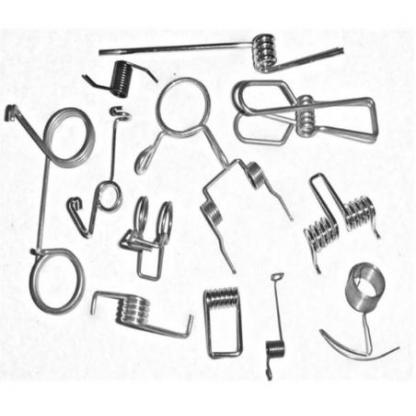FOD: (96, 31, 348, 74), (318, 260, 402, 362), (302, 169, 384, 272), (88, 289, 195, 339), (256, 270, 288, 380), (80, 57, 159, 100), (200, 283, 244, 360)
